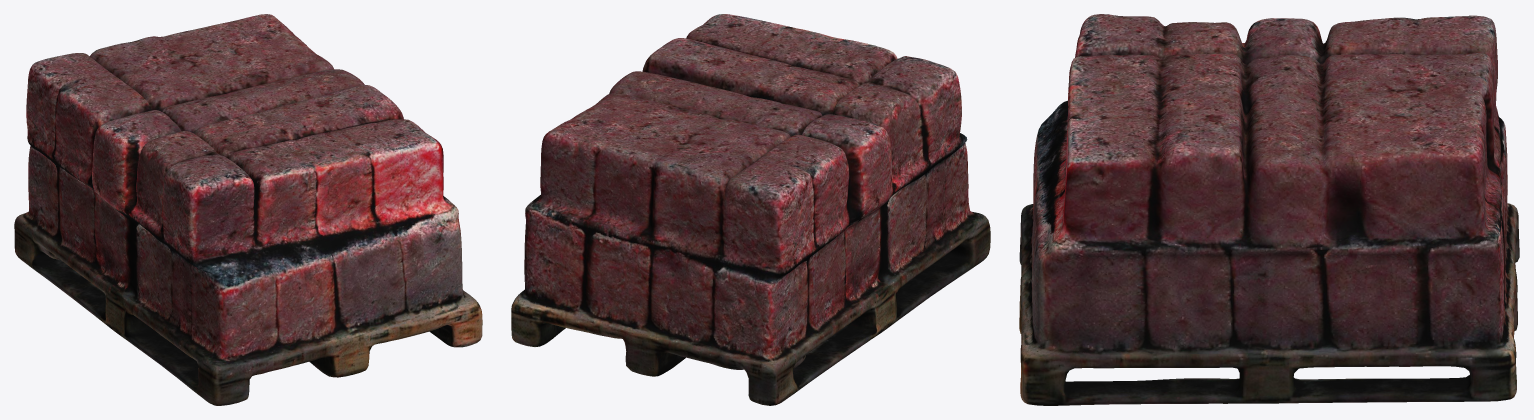
Rendered from redbricks.glb.
3 views of the same model, side by side, from view 1: azimuth 30°, elevation 25°; view 2: azimuth 150°, elevation 25°; view 3: azimuth 270°, elevation 25° (orthographic). The views are drawn at different scales.
Parts seen in each view (by area): view 1: default_004-material; view 2: default_004-material; view 3: default_004-material.
Boxes of the visible parts, x1,y1,x2,y2 form: default_004-material: (14,14,482,405); default_004-material: (511,14,990,405); default_004-material: (1019,14,1519,405).
Size of the model in its own units: 1.08 by 0.7724 by 1.43.
1 material, 1 textured.
